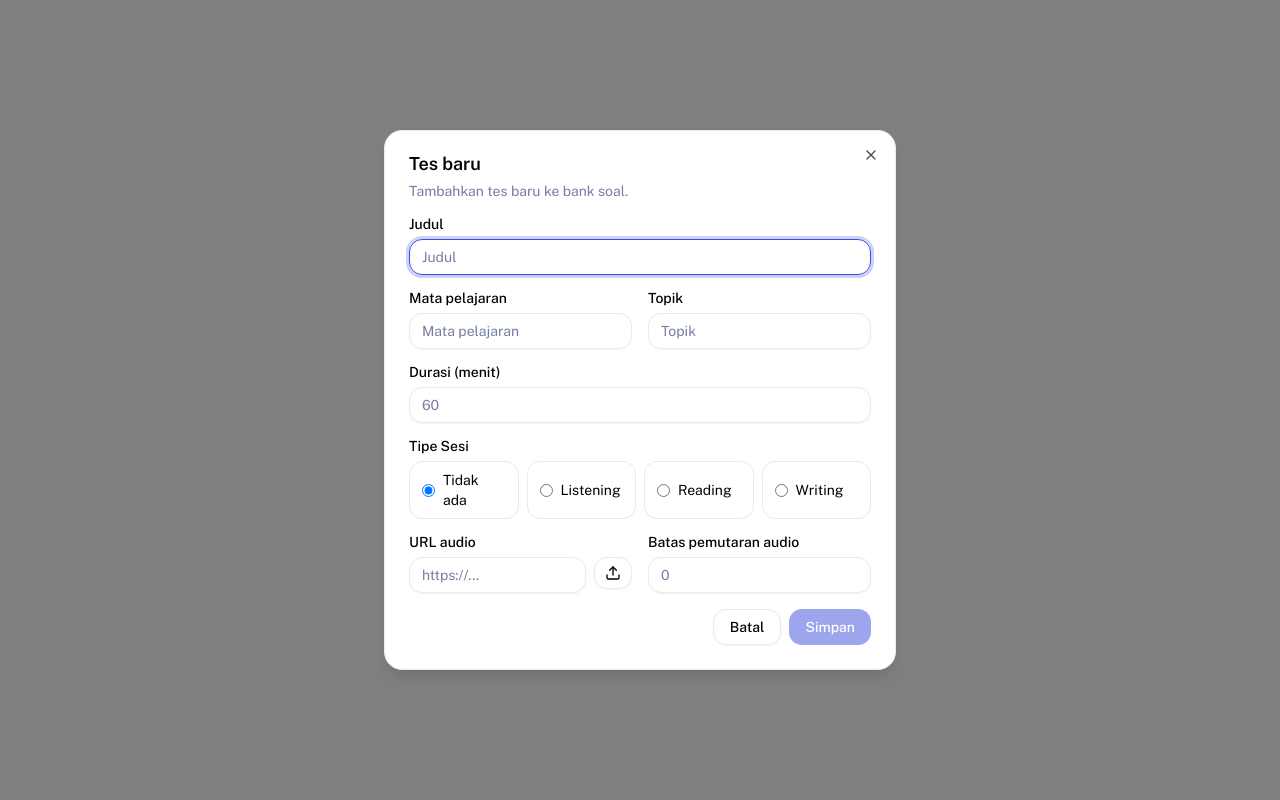
TestModal › blocks save when listening is selected and audio_url is empty
Note: Fill required fields
In the field labelled "Judul": (640, 257) [409,239,871,275], type "Listening Test"
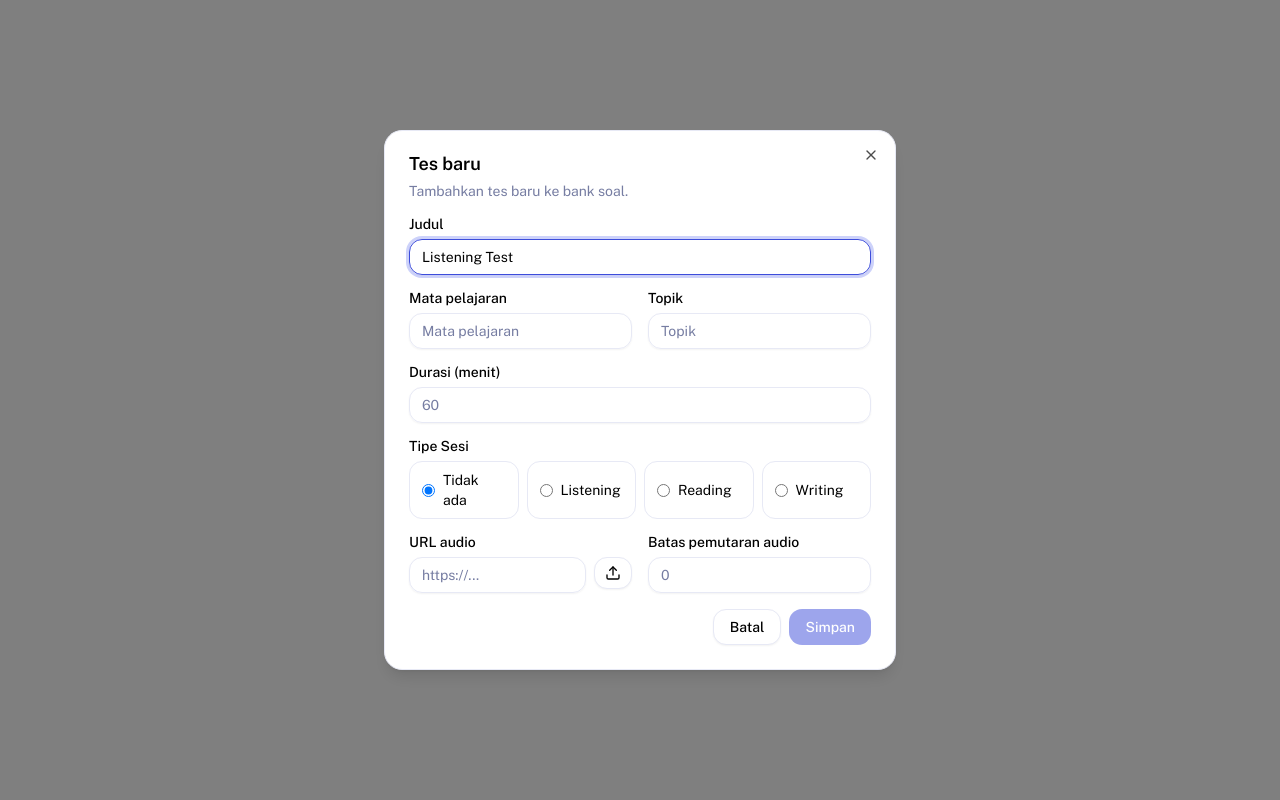
In the field labelled "Mata pelajaran": (520, 331) [409,313,632,349], type "Bahasa Inggris"
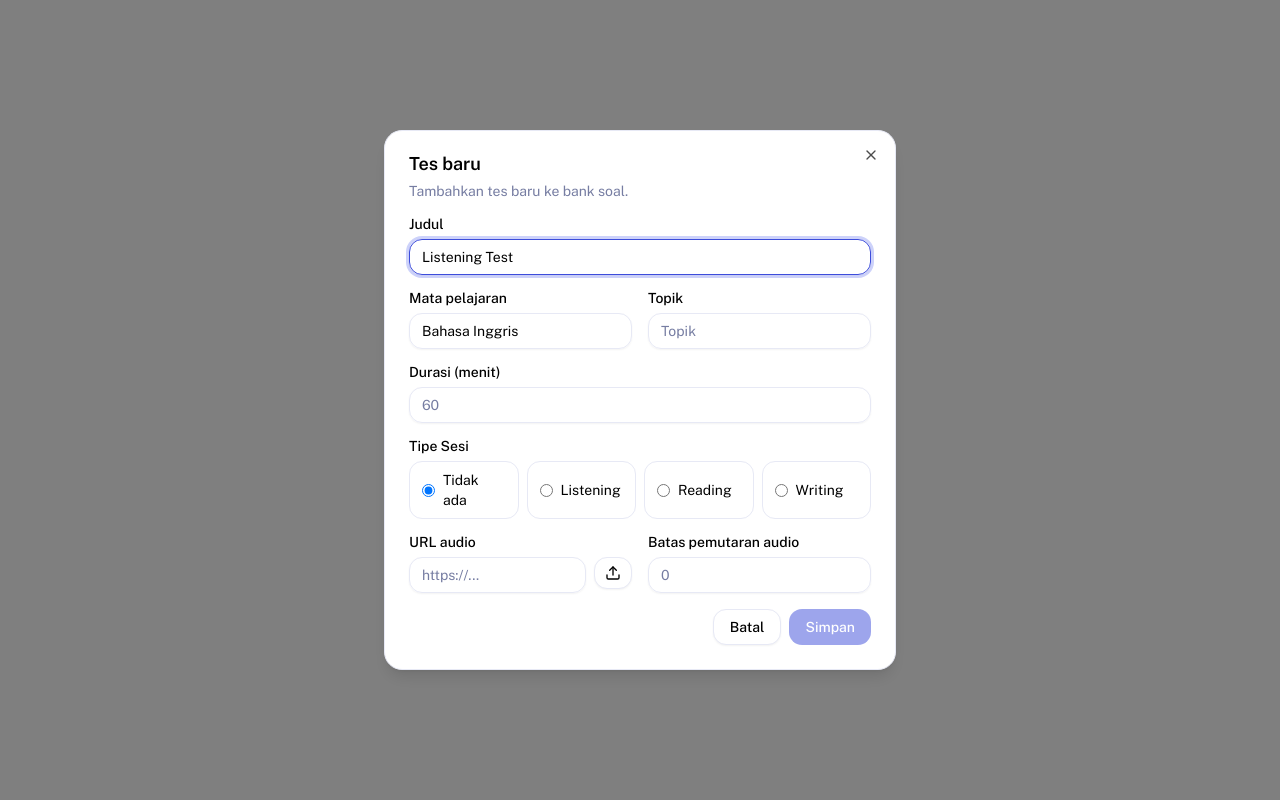
In the field labelled "Topik": (760, 331) [648,313,871,349], type "Listening"
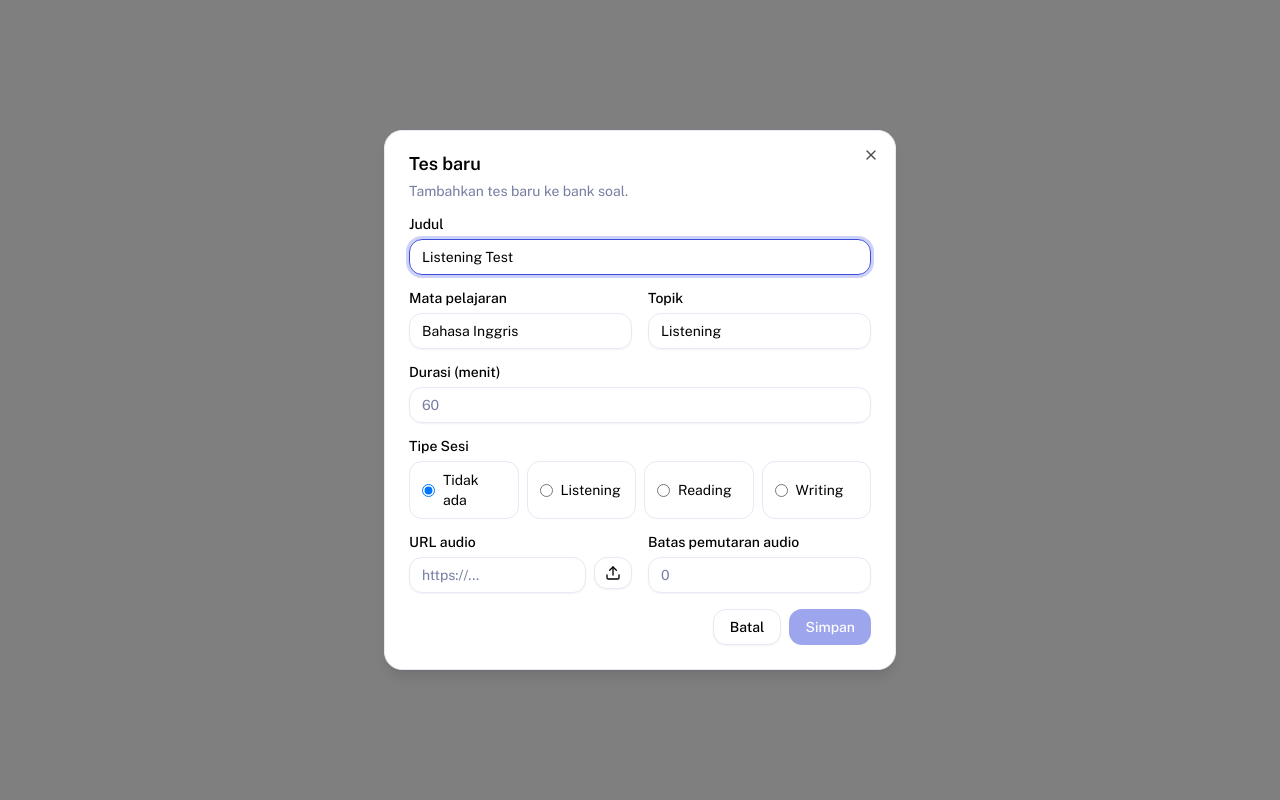
In the number field labelled "Durasi (menit)": (640, 405) [409,387,871,423], type "30"
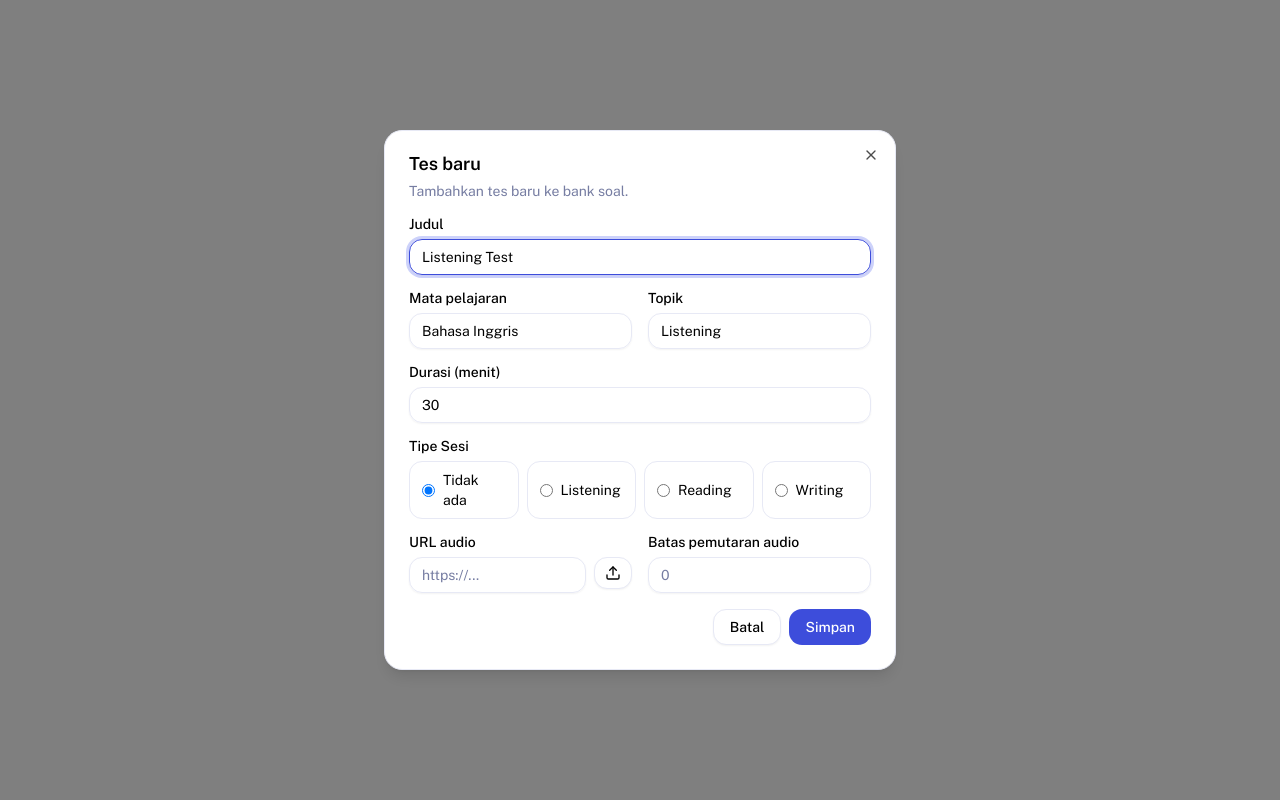
Note: Select listening → save should be blocked
Click the radio button labelled "Listening": (546, 490) [540,484,552,496]
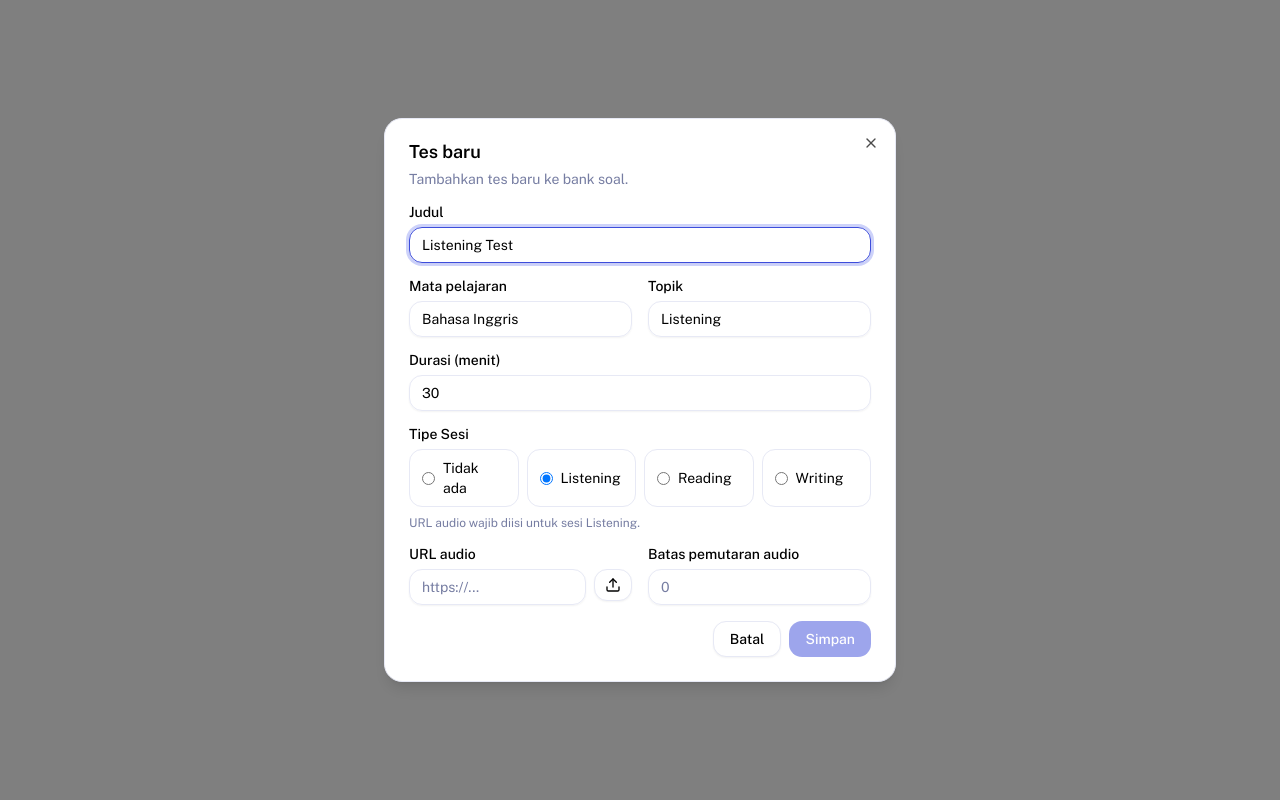
Expected: the button "Simpan" is disabled, [790,621,871,657]
